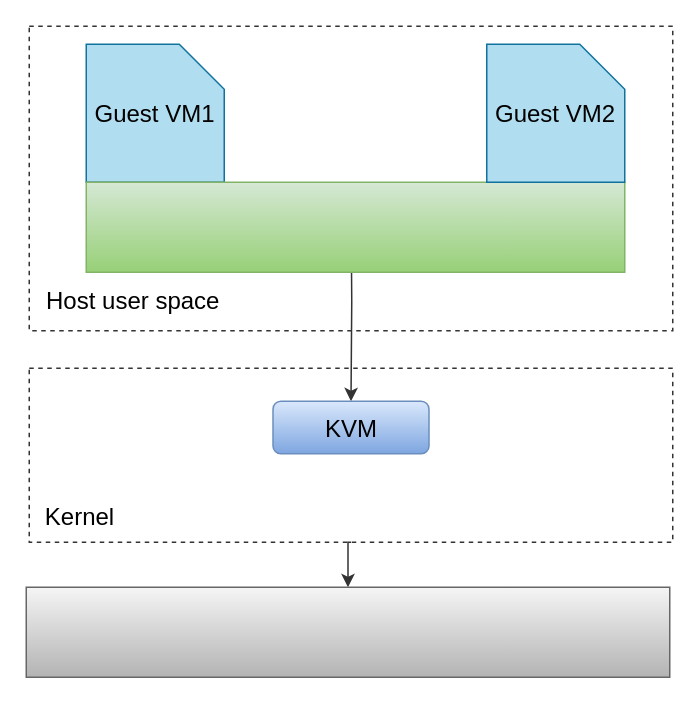
Image size: 699x704. Some labels were removed from this diagram. The centre of each missing label's shape, as x and y in pixels:
"Hardware" goes at pixel 347 631.
"QEMU" goes at pixel 355 226.
